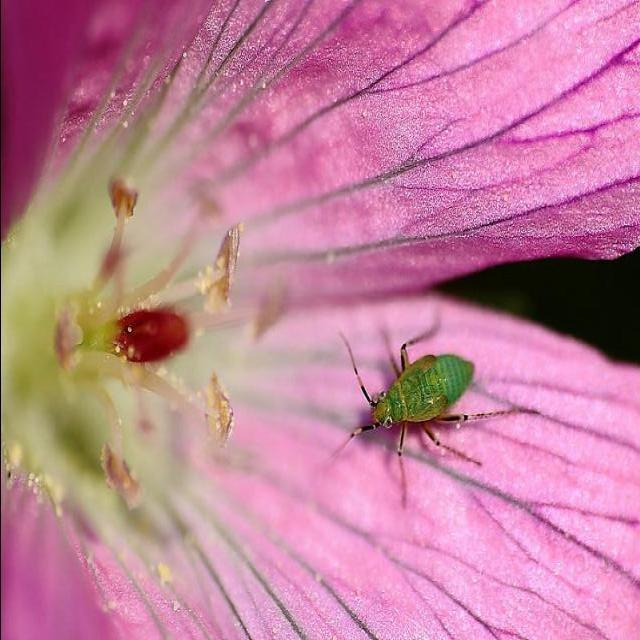aphid: (336, 291, 499, 505)
